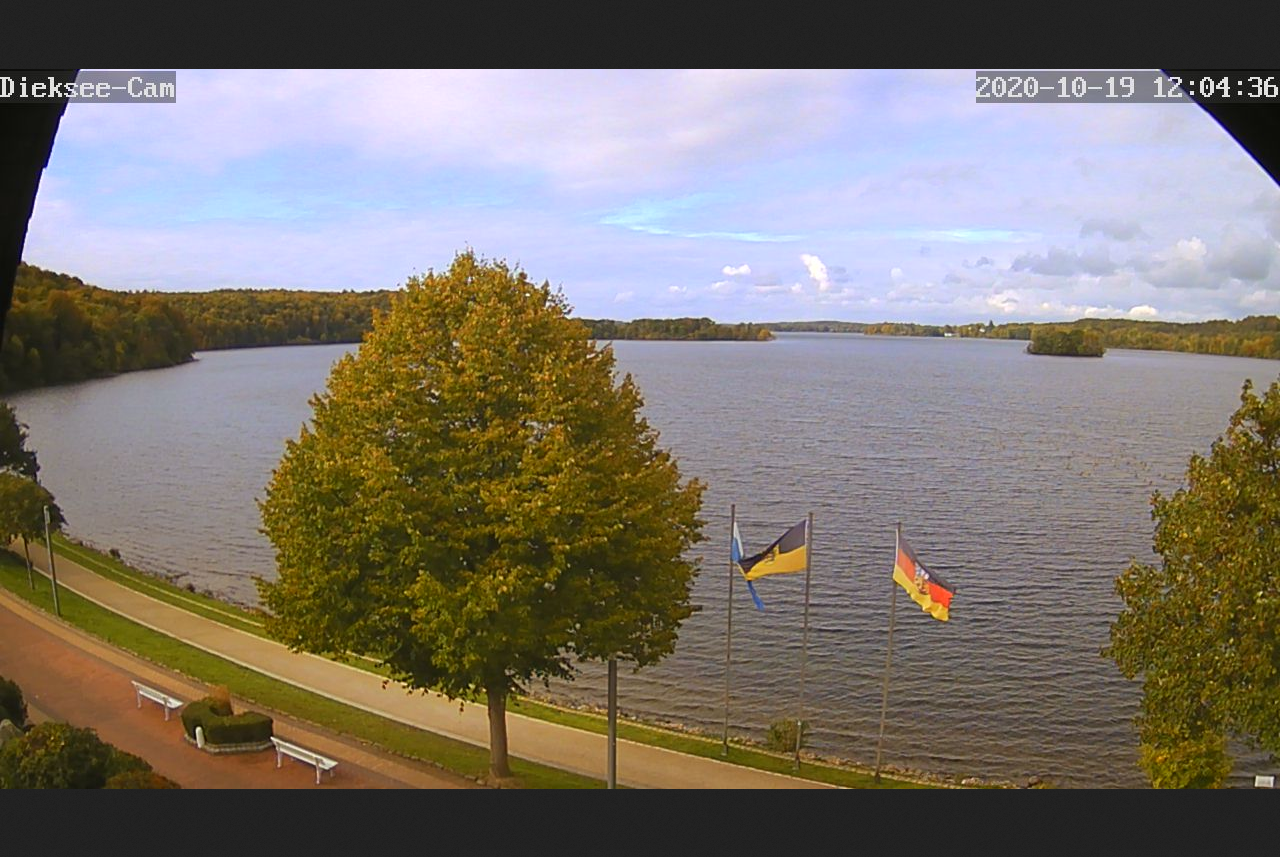maybe: (884, 513, 959, 630), (735, 505, 818, 579)
no: (726, 497, 769, 619)
